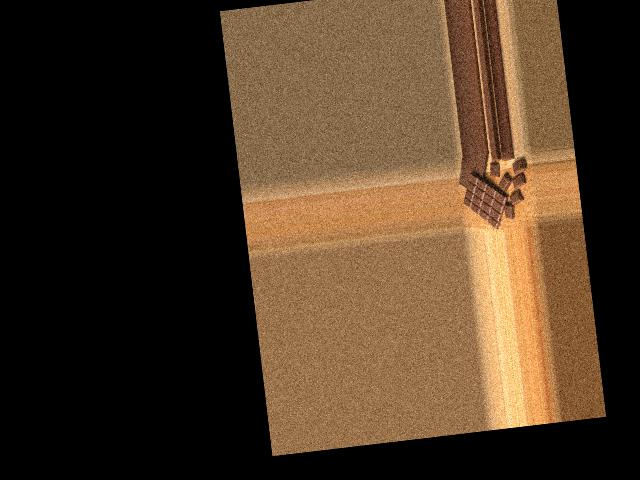chocolate: (459, 168, 513, 230)
